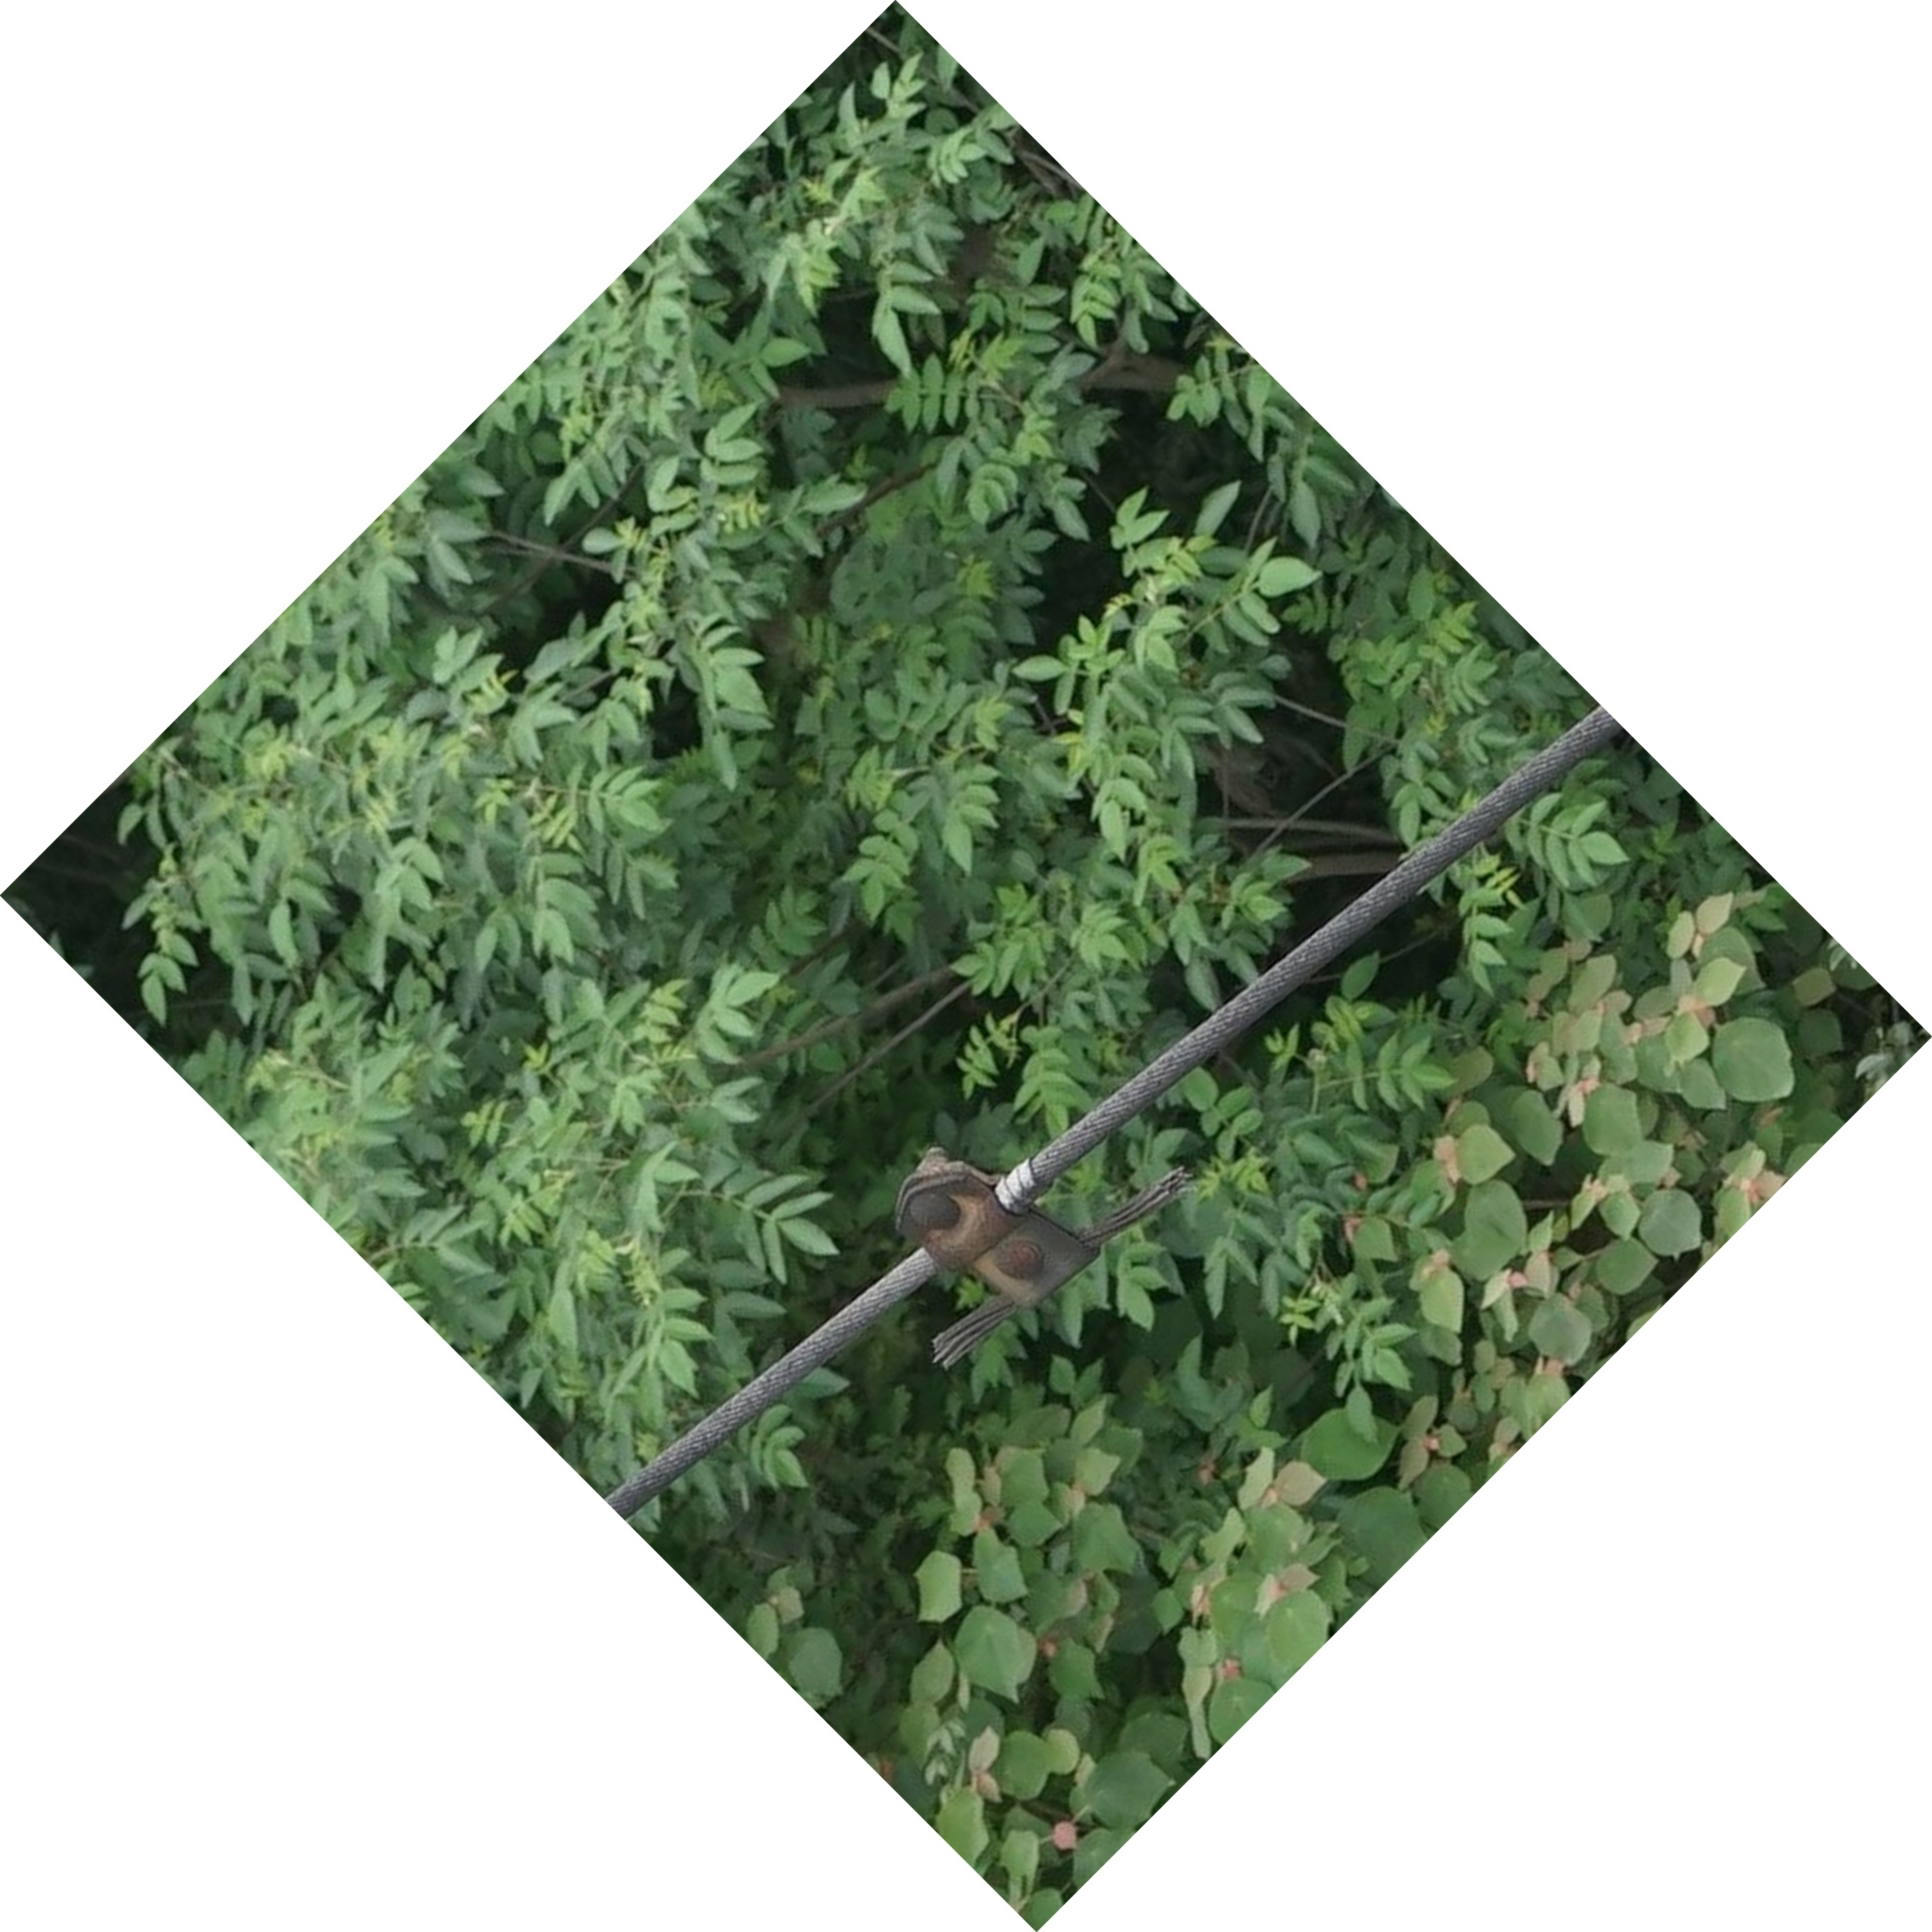Damage of shockproof hammer: (837, 1111, 1217, 1405)
